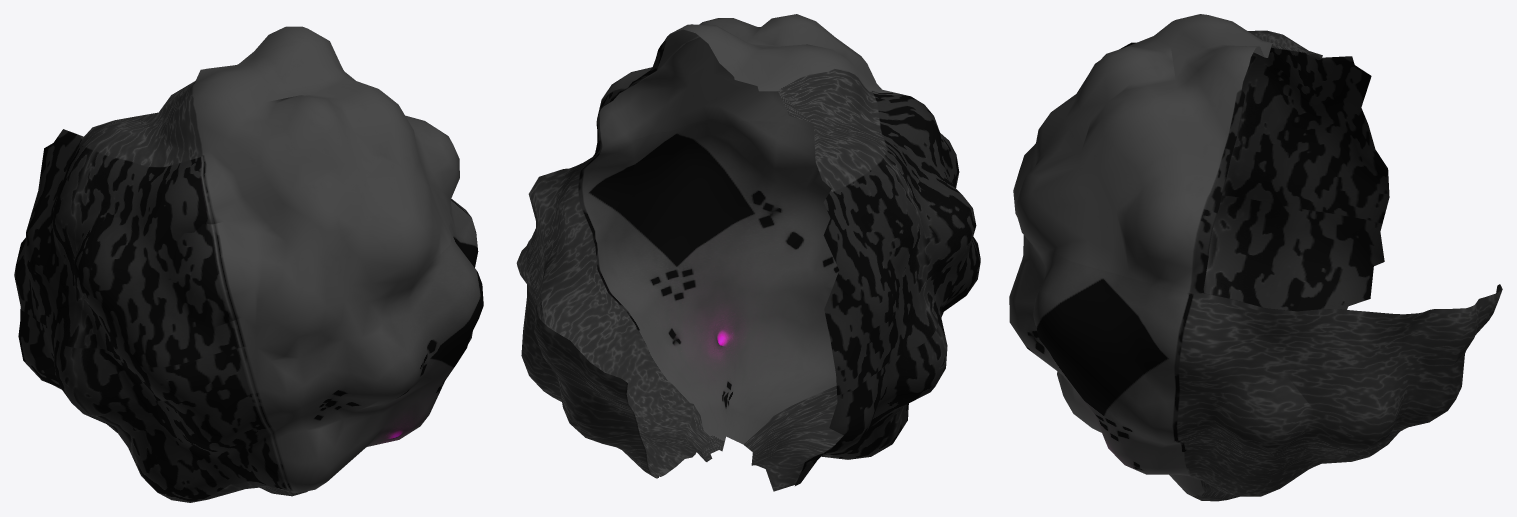
Rendered from moss.fbx.
3 views of the same model, side by side, from view 1: azimuth 30°, elevation 25°; view 2: azimuth 150°, elevation 25°; view 3: azimuth 270°, elevation 25° (orthographic). The views are drawn at different scales.
Parts seen in each view (by area): view 1: moss_game; view 2: moss_game; view 3: moss_game.
Boxes of the visible parts, x1,y1,x2,y2 form: moss_game: (14,26,483,502); moss_game: (516,14,980,491); moss_game: (1009,14,1502,501).
Bounding box in the file's own units: 226 × 241 × 234.
Materials: 1 (1 with a texture image).
